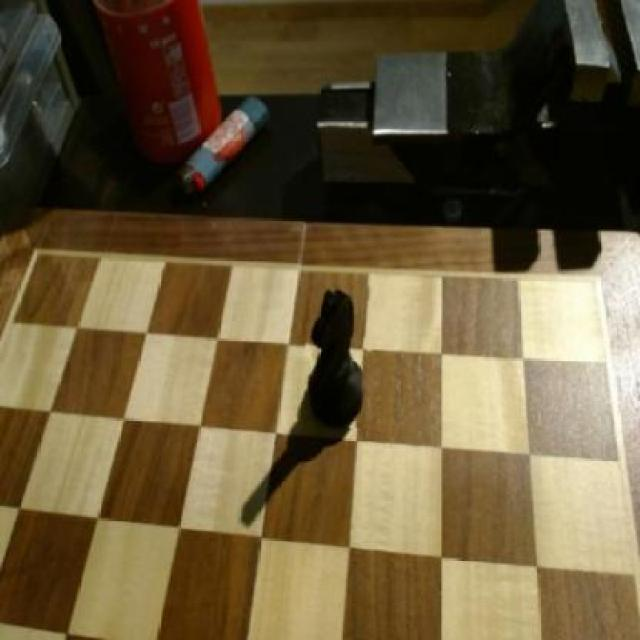black-king: (305, 284, 373, 428)
